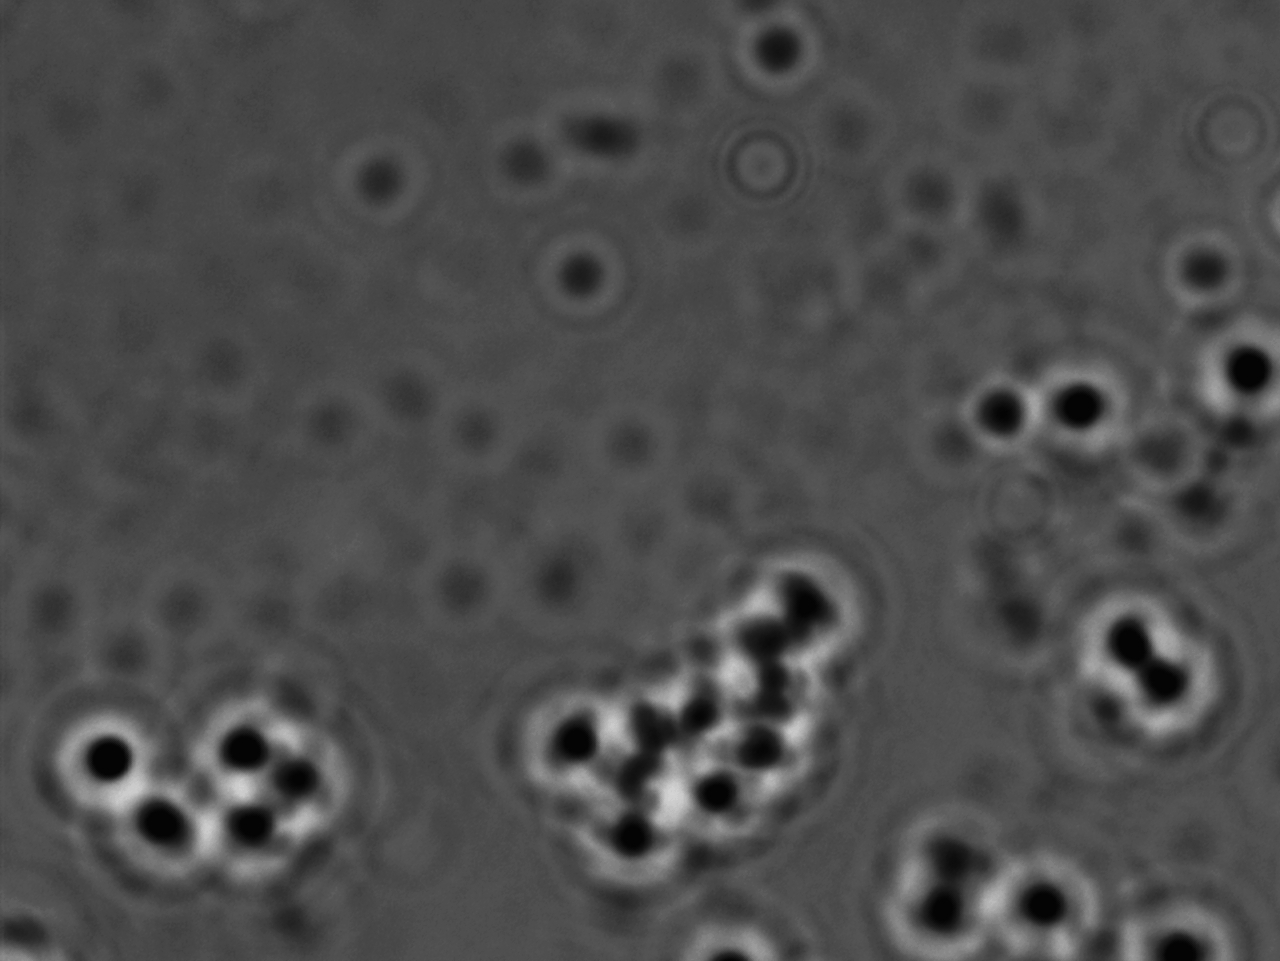depth:-32: (81, 755, 230, 906), (48, 687, 183, 836)
